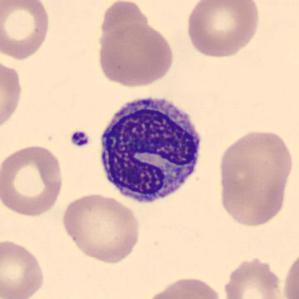Monocyte: (93, 87, 208, 211)
Platelets: (68, 128, 91, 148)
RBC: (215, 126, 296, 228), (95, 2, 176, 88), (59, 191, 143, 265), (0, 141, 66, 218), (183, 0, 262, 60), (0, 0, 52, 61), (221, 254, 289, 299), (0, 236, 47, 299), (0, 55, 26, 135), (145, 274, 225, 299), (281, 247, 299, 299)
